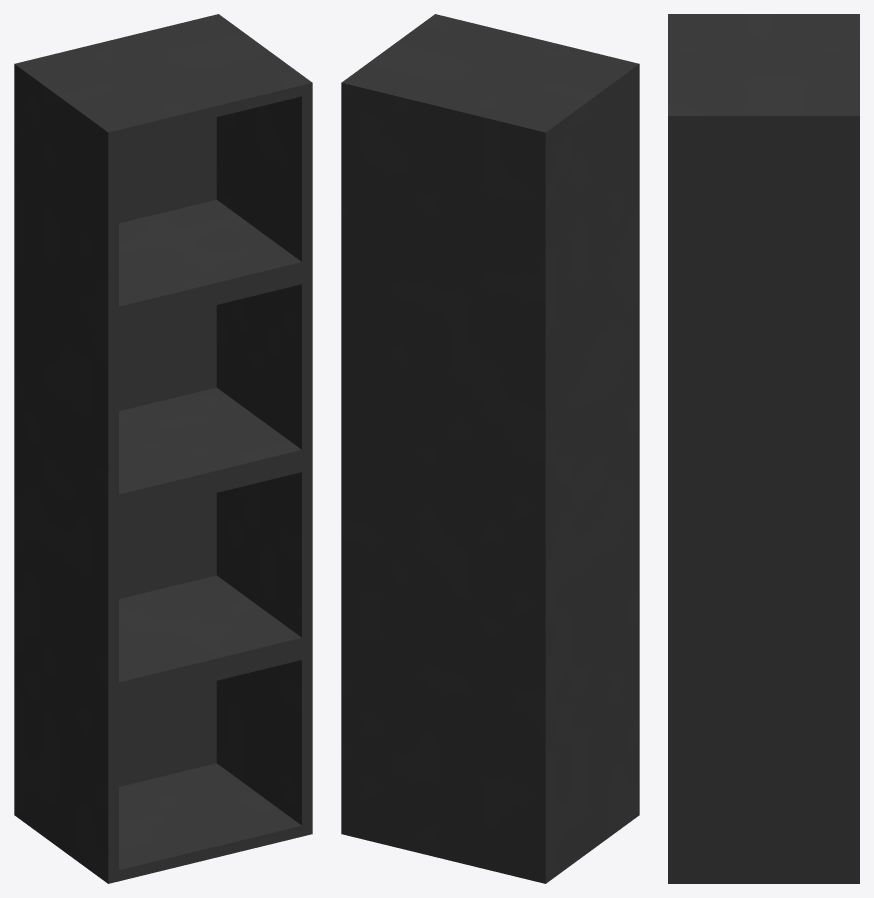
The model's file is Shelf_01_03.fbx.
3 views of the same model, side by side, from view 1: azimuth 30°, elevation 25°; view 2: azimuth 150°, elevation 25°; view 3: azimuth 270°, elevation 25° (orthographic). The views are drawn at different scales.
Visible parts, largest first — view 1: Shelf_01_03; view 2: Shelf_01_03; view 3: Shelf_01_03.
Part boxes in pixels (<box>): Shelf_01_03: <box>14,14,312,883</box>; Shelf_01_03: <box>341,14,639,883</box>; Shelf_01_03: <box>668,14,859,883</box>.
Size of the model in its own units: 0.4966 by 1.75 by 0.3952.
